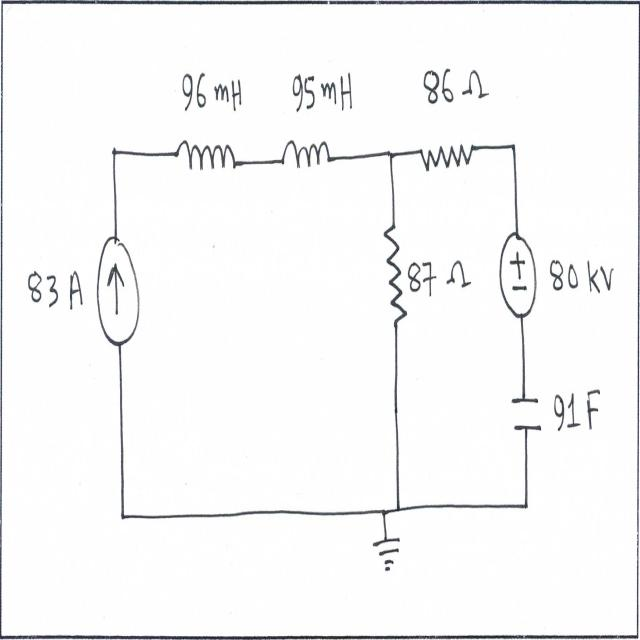capacitor: (507, 392, 545, 442)
current_source: (94, 226, 140, 355)
ground: (372, 533, 404, 583)
inductor: (170, 128, 242, 187), (274, 134, 337, 176)
resistor: (379, 218, 411, 334), (417, 130, 478, 178)
voltage_source: (496, 223, 540, 324)
